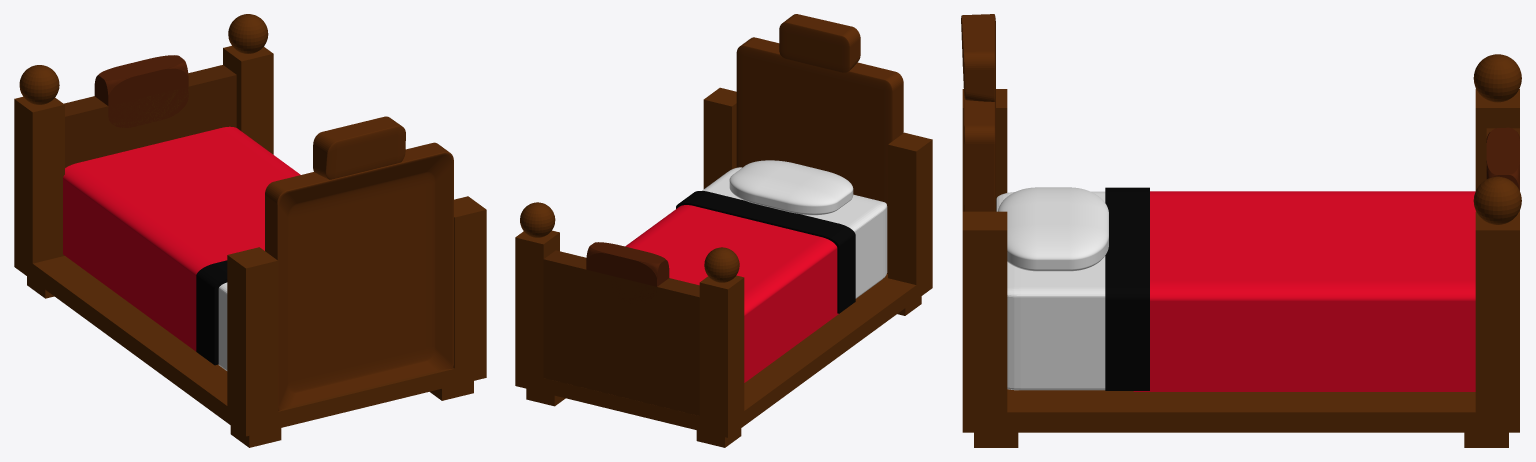
The model's file is Bed.fbx.
3 views of the same model, side by side, from view 1: azimuth 30°, elevation 25°; view 2: azimuth 150°, elevation 25°; view 3: azimuth 270°, elevation 25° (orthographic). The views are drawn at different scales.
Parts seen in each view (by area): view 1: Cube.005, Cube.004, Cube.003, Cube.001, Cube.002, Cube.007, Cube; view 2: Cube.004, Cube.005, Cube.001, Cube.003, Cube.008, Cube.007, Cube, Cube.002; view 3: Cube.003, Cube.004, Cube, Cube.007, Cube.008, Cube.005, Cube.002.
Part boxes in pixels (x1,y1,x2,y2): Cube.005: [265, 116, 453, 411]; Cube.004: [14, 14, 486, 447]; Cube.003: [63, 126, 300, 351]; Cube.001: [64, 65, 236, 167]; Cube.002: [94, 55, 188, 127]; Cube.007: [196, 260, 227, 365]; Cube: [218, 282, 227, 370]; Cube.004: [515, 87, 932, 447]; Cube.005: [736, 14, 903, 273]; Cube.001: [543, 250, 699, 415]; Cube.003: [625, 205, 838, 382]; Cube.008: [729, 160, 853, 215]; Cube.007: [676, 191, 855, 313]; Cube: [702, 167, 887, 298]; Cube.002: [586, 242, 669, 303]; Cube.003: [1133, 191, 1475, 391]; Cube.004: [962, 54, 1521, 447]; Cube: [996, 191, 1105, 390]; Cube.007: [1105, 187, 1149, 390]; Cube.008: [998, 187, 1108, 271]; Cube.005: [961, 14, 995, 211]; Cube.002: [1486, 127, 1519, 190].
Size of the model in its own units: 303 by 345 by 503.
